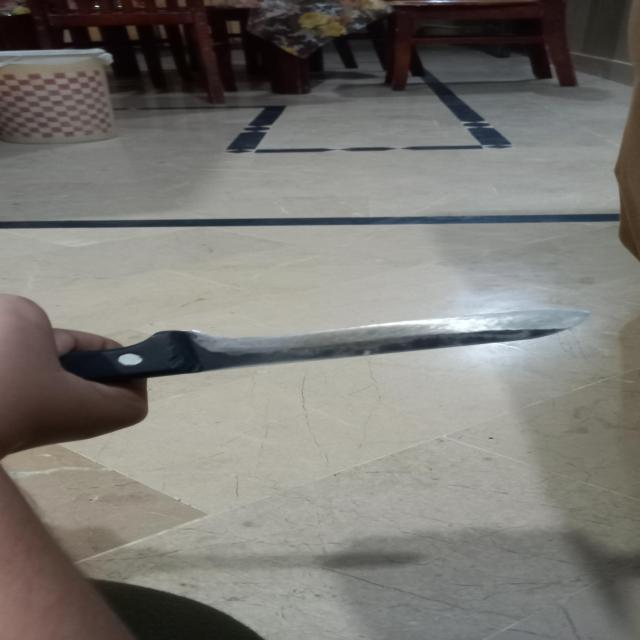Knife: (50, 308, 593, 381)
Person: (2, 295, 154, 640)
